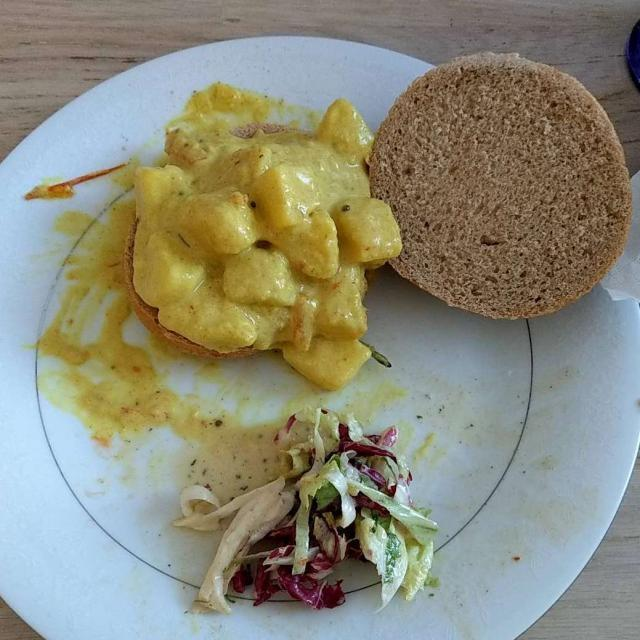bread: (369, 54, 623, 314)
potatoes: (137, 88, 393, 400)
salad: (188, 413, 414, 590)
sauce: (71, 110, 375, 426)
